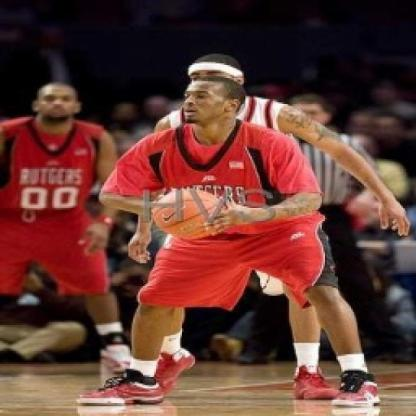basketball: (154, 189, 226, 239)
